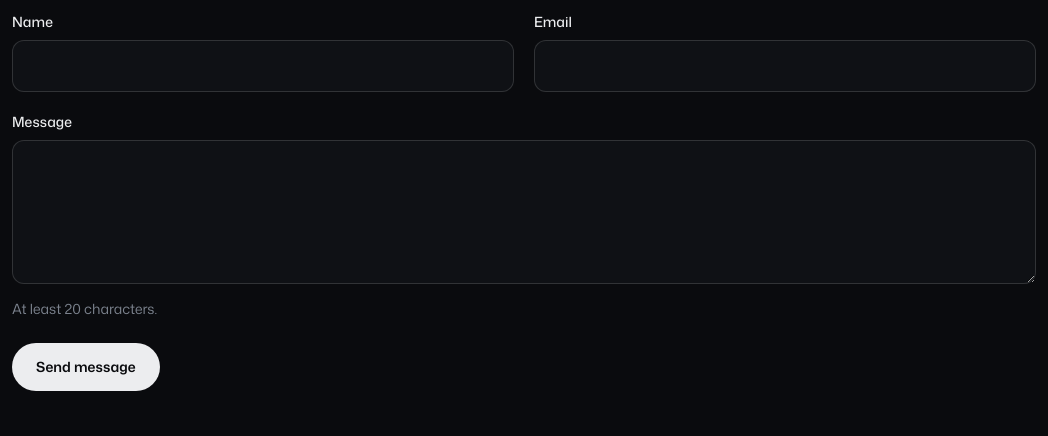
Test: <ContactForm /> › shows "Invalid email address." after leaving a bad email field
In the field labelled "Email": (785, 66) [534, 40, 1036, 92], type "ana@example"
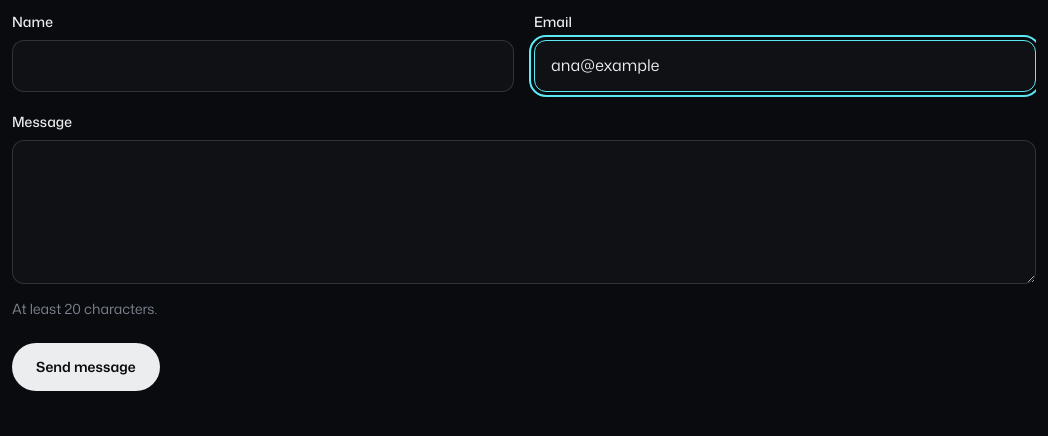
Press Tab
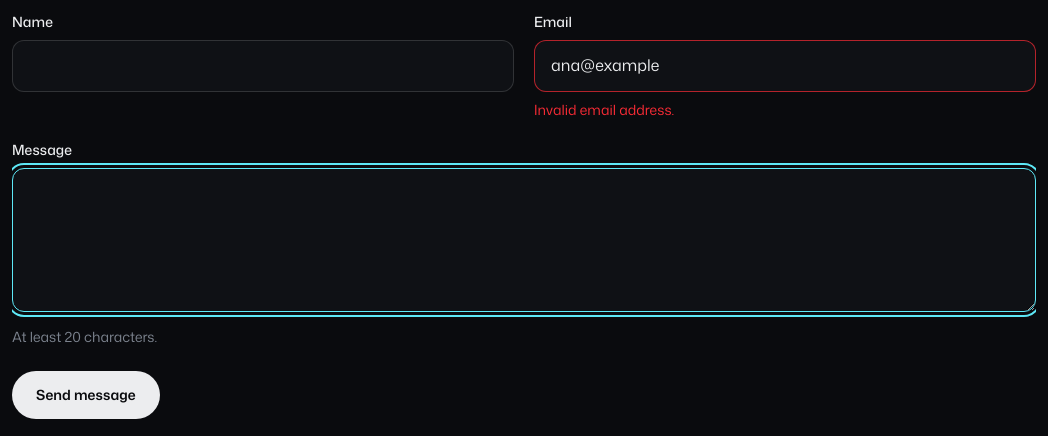
Check: the text "Invalid email address." is shown, box [534, 100, 674, 119]
